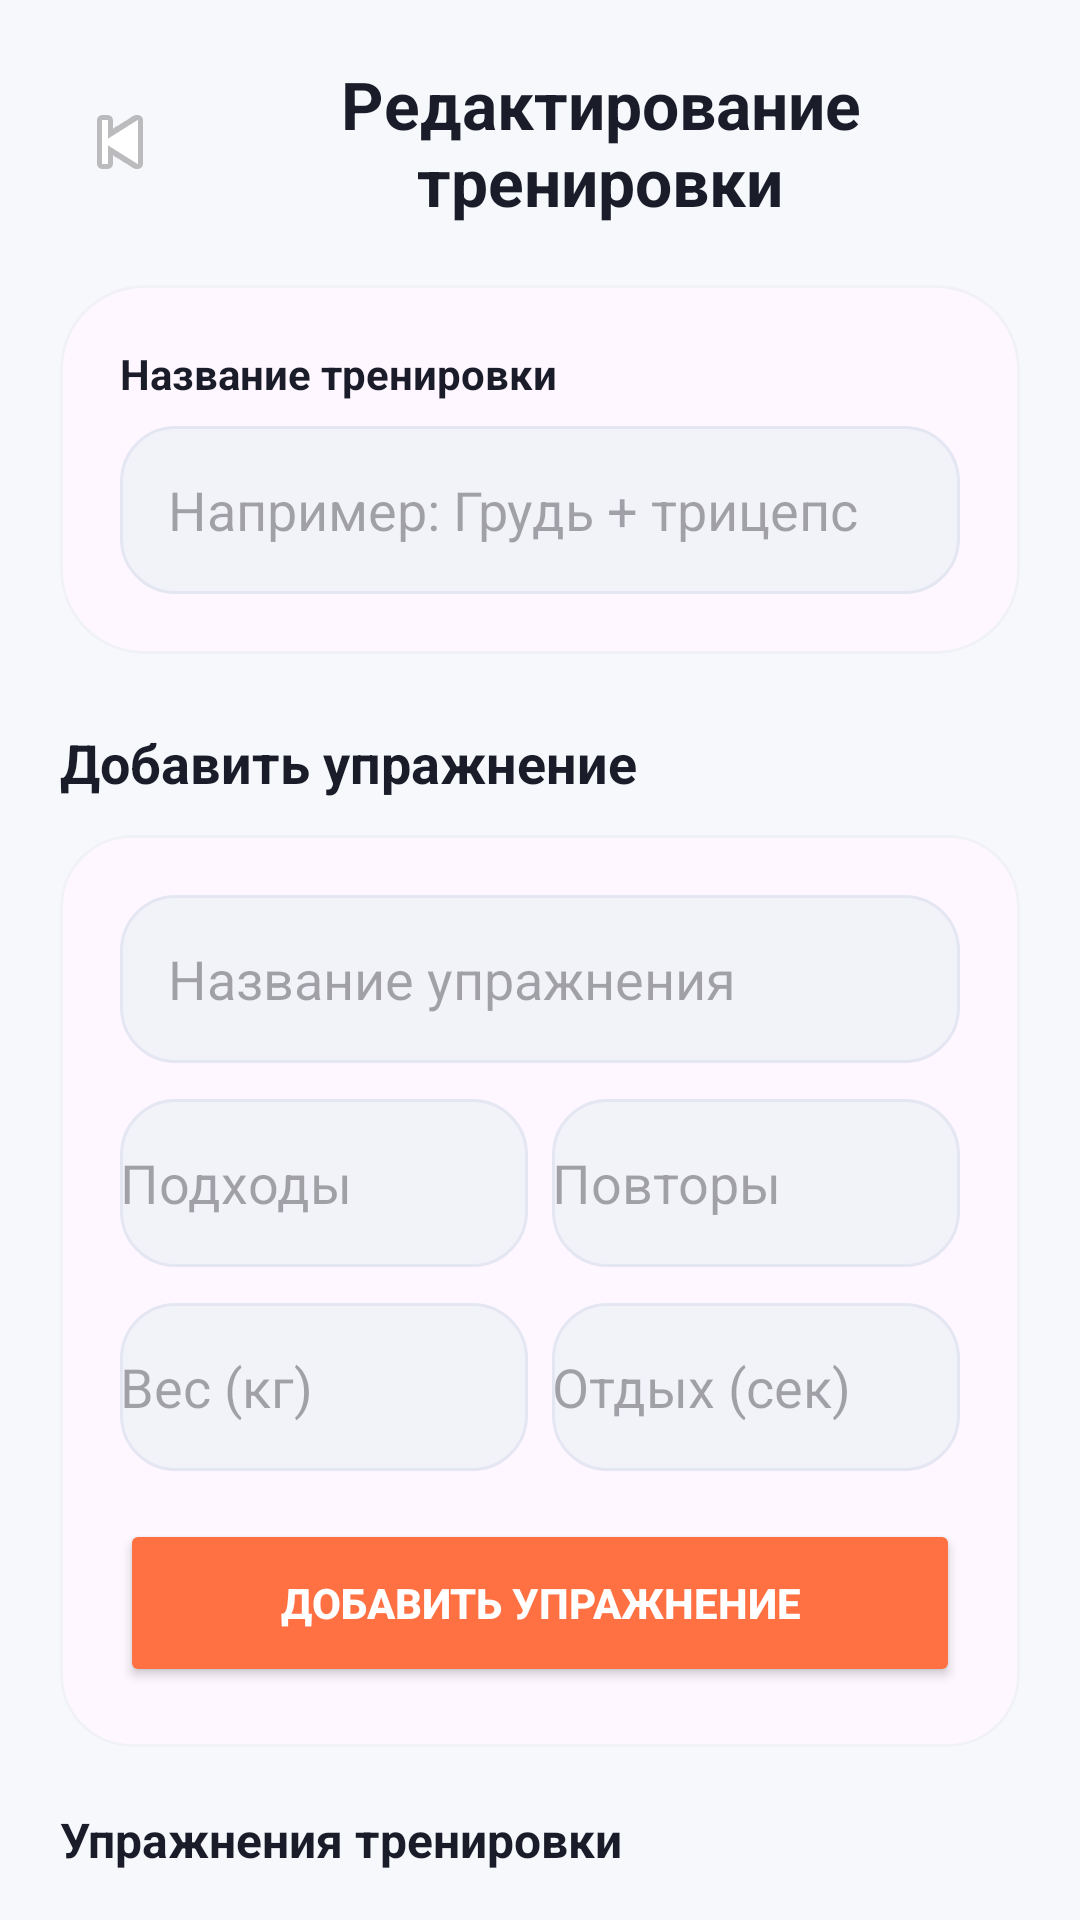

Icons on this 1080px×1920px Android screen, each with its box as BBox(x1, y1, x2, y2):
Назад: BBox(97, 115, 143, 169)
